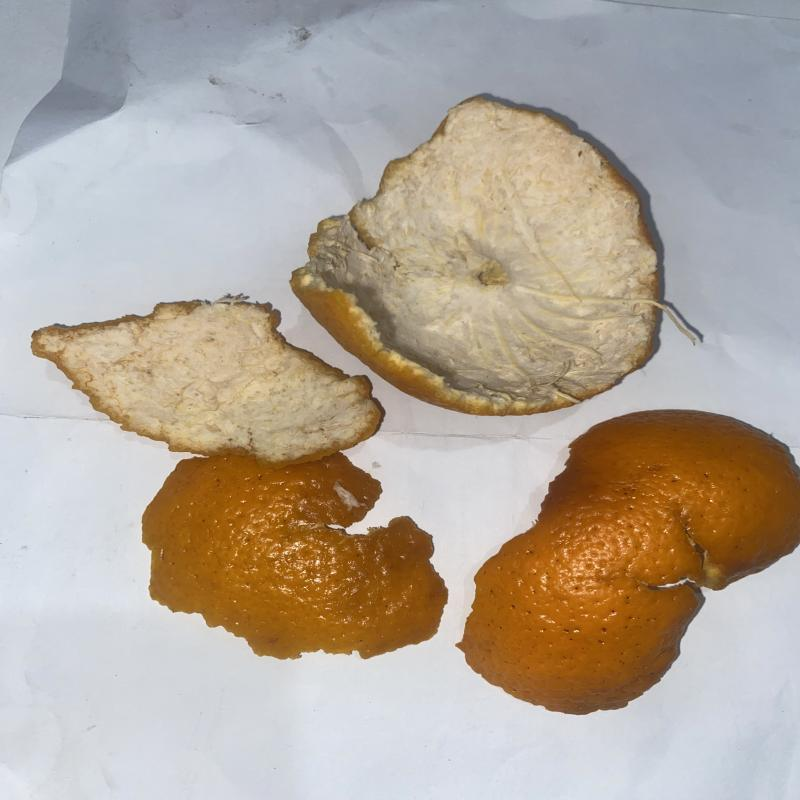fruit peels: (289, 94, 667, 419), (456, 410, 800, 719), (139, 454, 450, 663), (29, 298, 387, 467)
